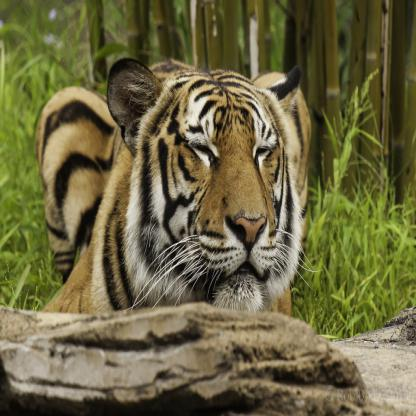Tiger: (34, 56, 312, 314)
